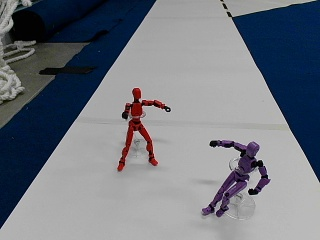pedestrian: (202, 138, 269, 218), (118, 87, 170, 171)
